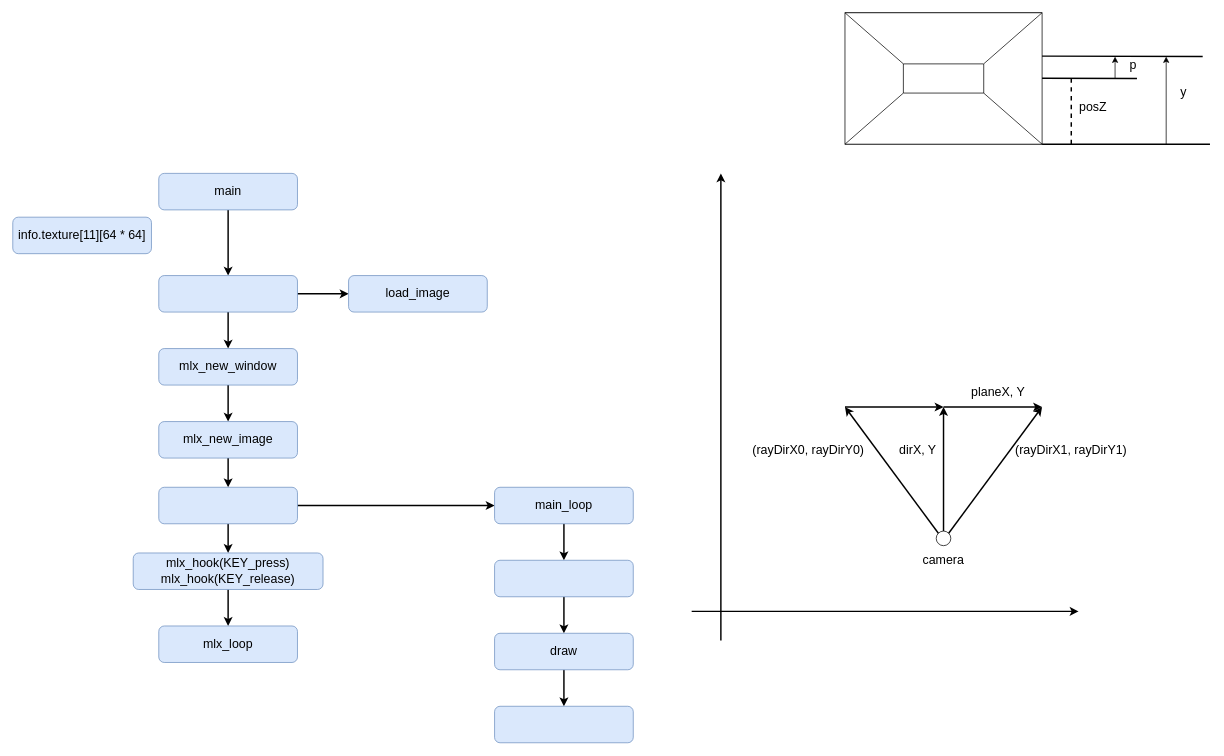
Some shapes in this 1224 by 756 pixel diagram are drawn without their labels. Here are the shapes that lost their labels. From the top down, the box of each, then its label:
(158, 275, 297, 312): load_texture
(158, 487, 297, 524): mlx_loop_hook
(494, 560, 633, 597): calc
(494, 706, 633, 743): key_update
